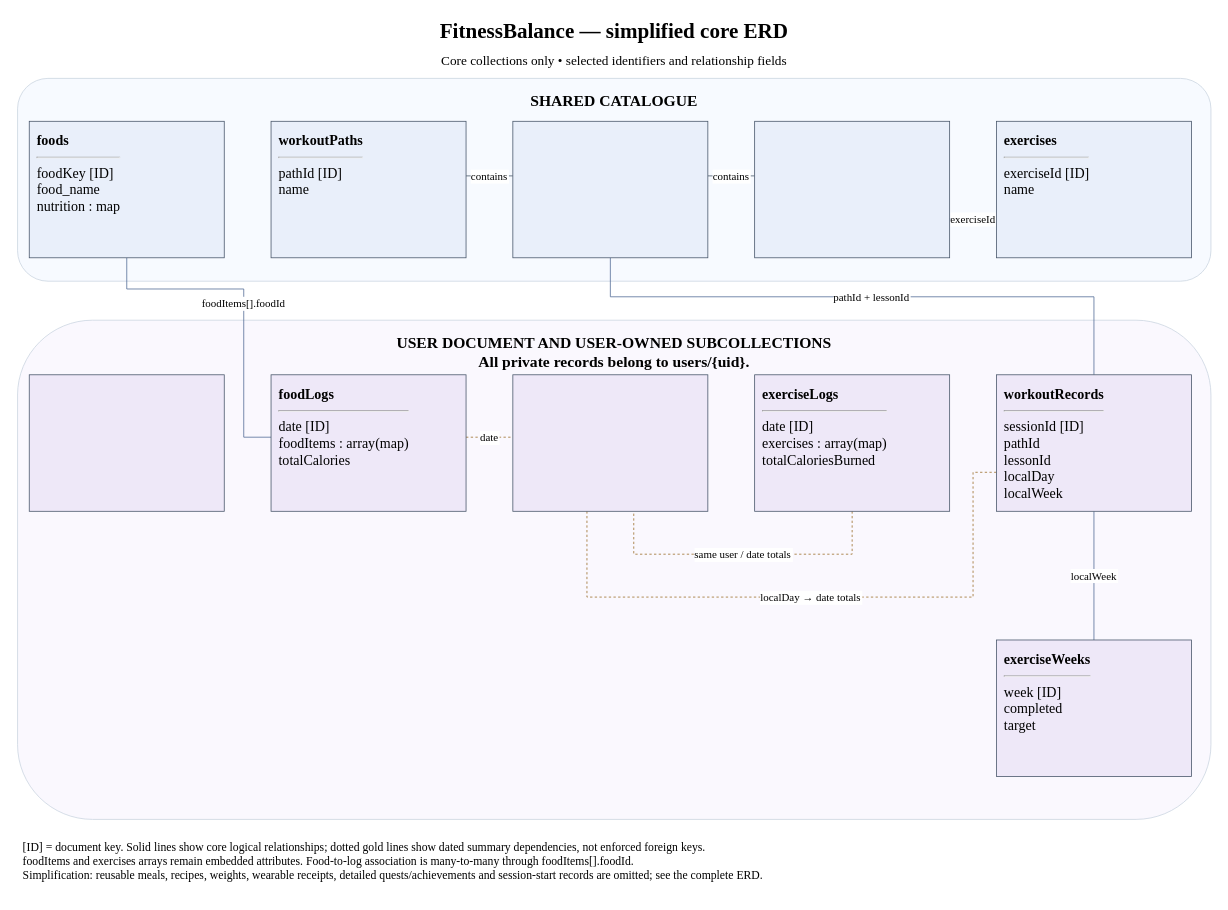
Some shapes in this 1228 by 910 pixel diagram are drawn without their labels. Here are the shapes that lost their labels. From the top down, the centre of each, then its label:
point (610, 189): lessons lessonId [ID] name
point (852, 189): workoutExercises itemId [ID] exerciseId
point (126, 442): users uid [ID] fullName totalXp
point (610, 442): dailyData date [ID] caloriesConsumed caloriesBurned
